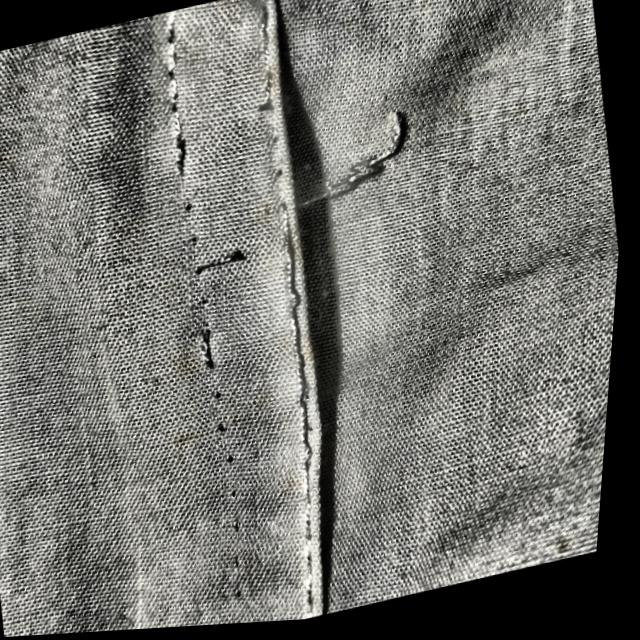Stitch: (112, 155, 276, 513), (234, 91, 444, 255)
